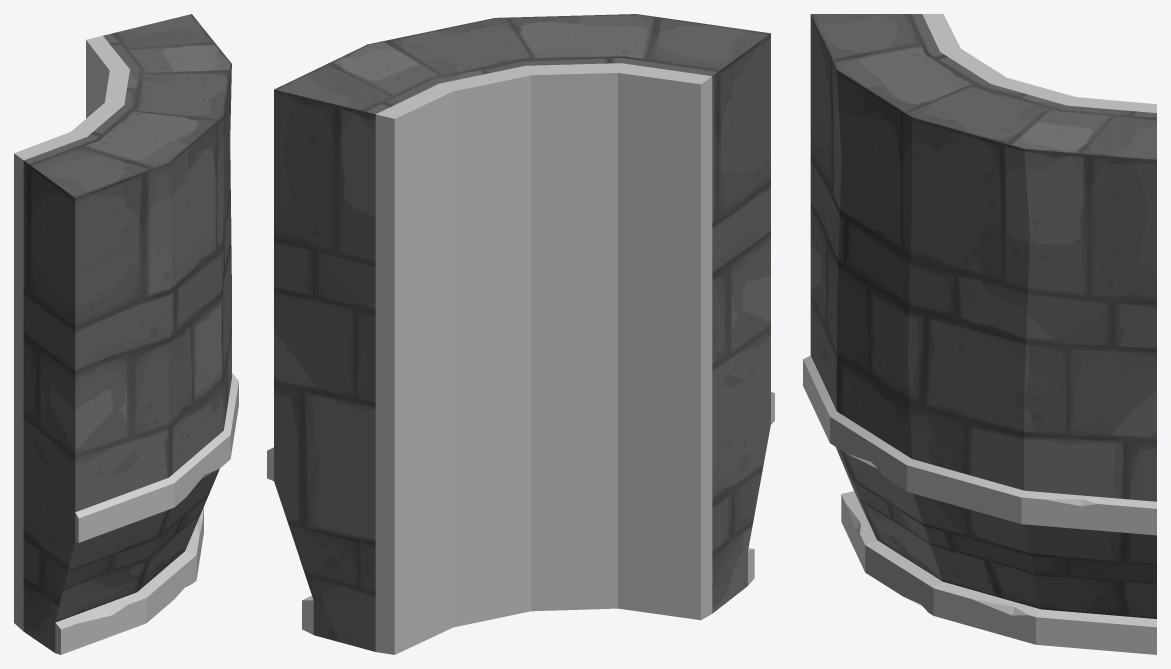
File: SM_Bld_Wall_L_Curve_04.fbx
The picture shows the model from 3 angles, left to right: view 1: azimuth 30°, elevation 25°; view 2: azimuth 150°, elevation 25°; view 3: azimuth 270°, elevation 25°; orthographic projection. The views are drawn at different scales.
Visible parts, largest first — view 1: SM_Bld_Wall_L_Curve_04; view 2: SM_Bld_Wall_L_Curve_04; view 3: SM_Bld_Wall_L_Curve_04.
Part boxes in pixels (x1=…): SM_Bld_Wall_L_Curve_04: x1=14, y1=14, x2=238, y2=654; SM_Bld_Wall_L_Curve_04: x1=267, y1=14, x2=774, y2=654; SM_Bld_Wall_L_Curve_04: x1=803, y1=14, x2=1156, y2=654.
Bounding box in the file's own units: 377 × 602 × 377.
